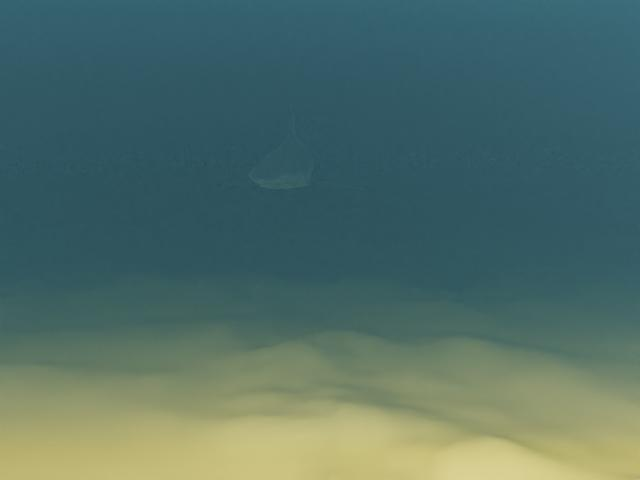Carribean Shark.001: (218, 110, 365, 189)
